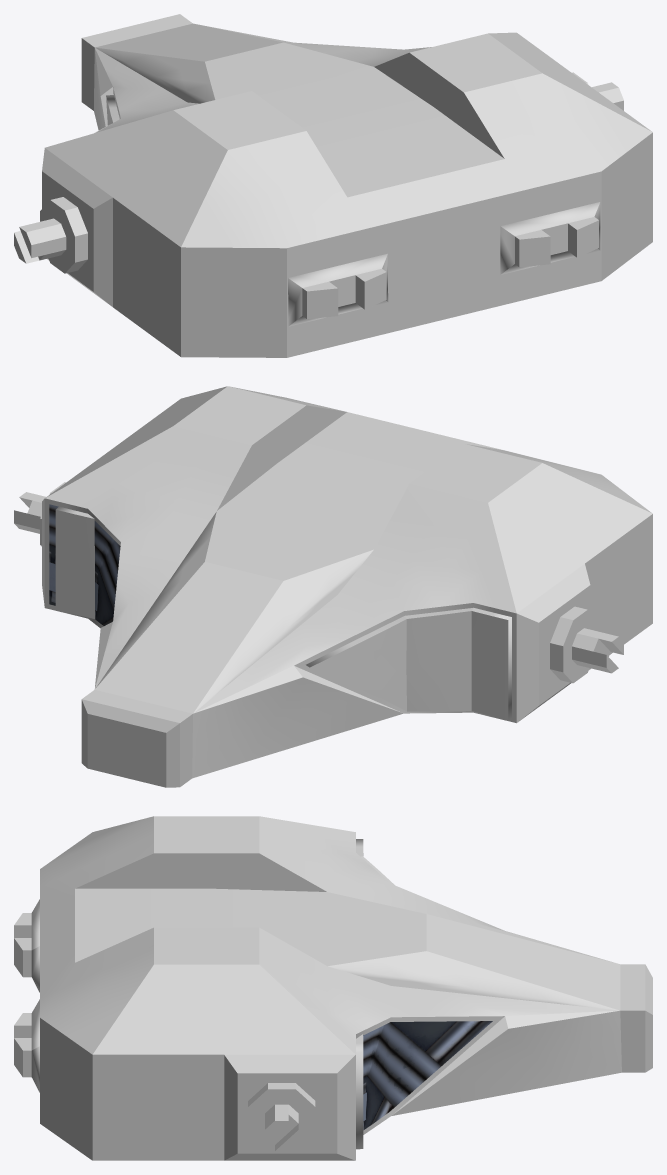
The model's file is body_triver_destructable.fbx.
3 views of the same model, one above another, from view 1: azimuth 30°, elevation 25°; view 2: azimuth 150°, elevation 25°; view 3: azimuth 270°, elevation 25° (orthographic). The views are drawn at different scales.
Parts seen in each view (by area): view 1: body_Ominous.010, body_Ominous.015, body_Ominous.016, body_Ominous.018, body_Ominous.011, body_Ominous.014; view 2: body_Ominous.010, body_Ominous.012, body_Ominous.014, body_Ominous.016, body_Ominous.013, body_Ominous.015; view 3: body_Ominous.010, body_Ominous.015, body_Ominous.017, body_Ominous.014, body_Ominous.011, body_Ominous.018, body_Ominous.013.
Part boxes in pixels (<box>): body_Ominous.010: <box>14,14,652,357</box>; body_Ominous.015: <box>181,73,652,248</box>; body_Ominous.016: <box>113,198,180,356</box>; body_Ominous.018: <box>500,202,600,274</box>; body_Ominous.011: <box>288,253,388,326</box>; body_Ominous.014: <box>95,23,282,61</box>; body_Ominous.010: <box>14,386,652,787</box>; body_Ominous.012: <box>306,607,511,719</box>; body_Ominous.014: <box>95,562,283,713</box>; body_Ominous.016: <box>585,514,652,669</box>; body_Ominous.013: <box>55,506,94,618</box>; body_Ominous.015: <box>232,387,652,513</box>; body_Ominous.010: <box>40,816,652,1160</box>; body_Ominous.015: <box>40,816,153,1054</box>; body_Ominous.017: <box>92,1054,224,1160</box>; body_Ominous.014: <box>426,914,620,1010</box>; body_Ominous.011: <box>14,899,39,992</box>; body_Ominous.018: <box>14,999,39,1092</box>; body_Ominous.013: <box>356,1034,363,1149</box>.
Size of the model in its own units: 251 by 66.67 by 243.
